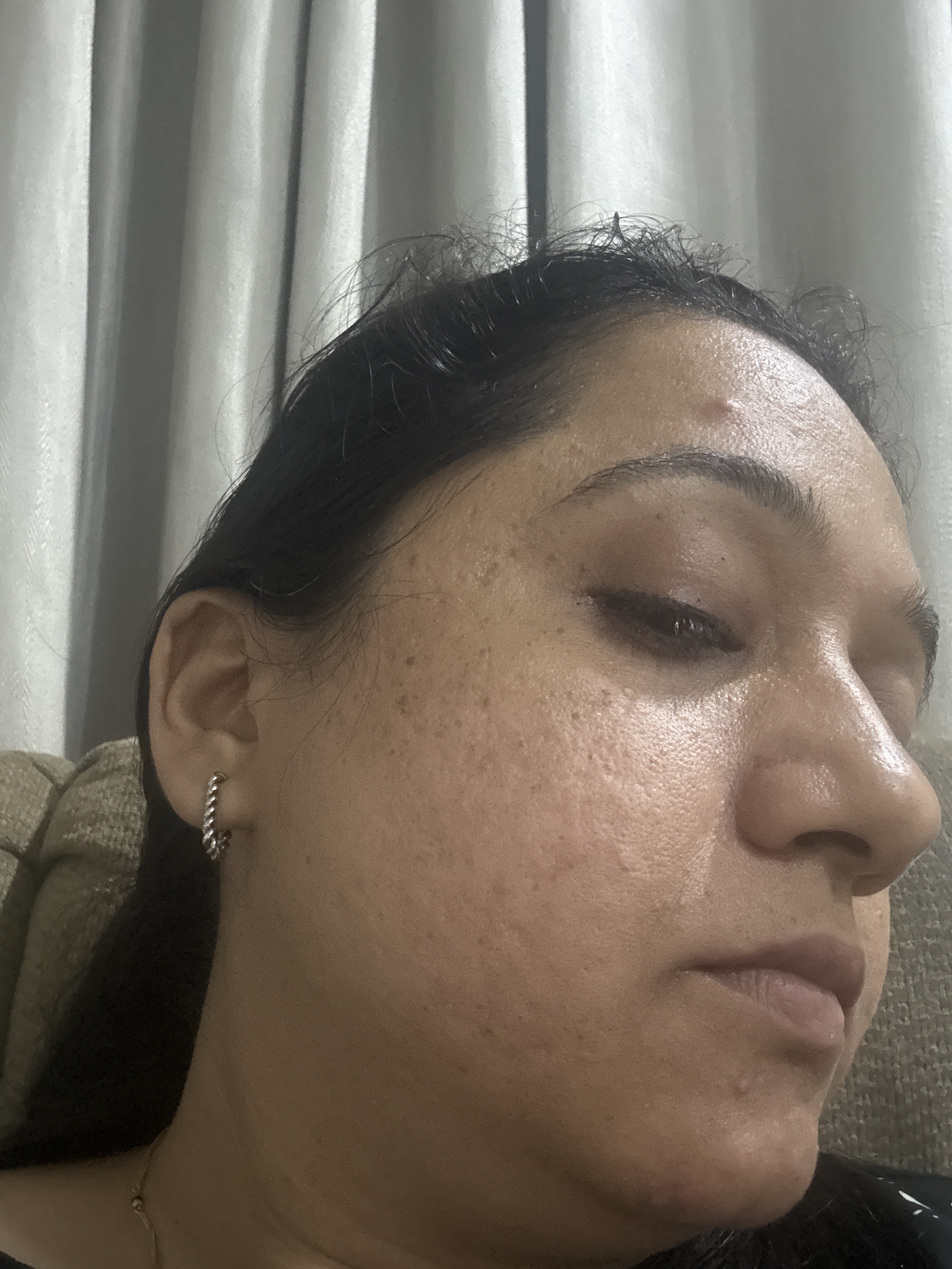papule: (710, 392, 744, 422), (732, 1071, 751, 1098)
